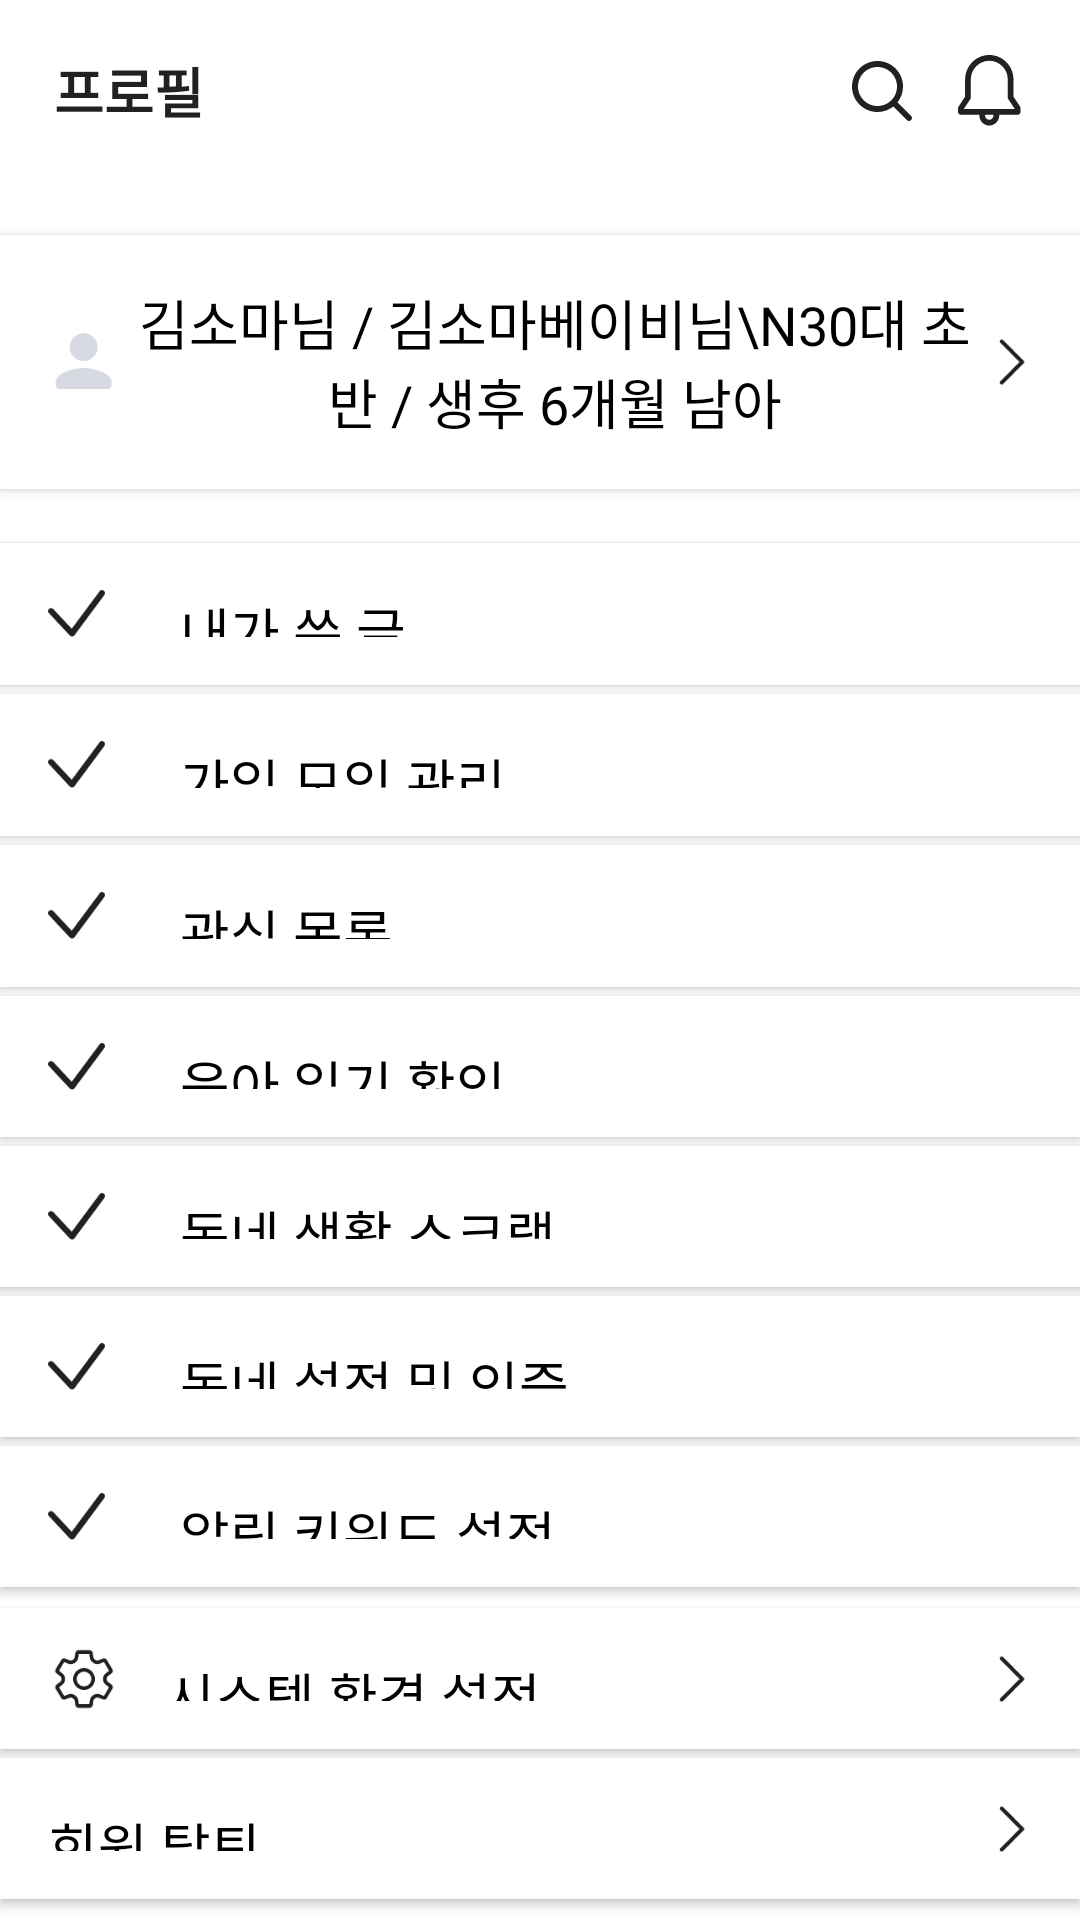

Named icons in this screenshot (1080*1920) and their bounding boxes, (x1, y1, x2, y2):
noti: (958, 55, 1021, 126)
search: (852, 61, 912, 121)
